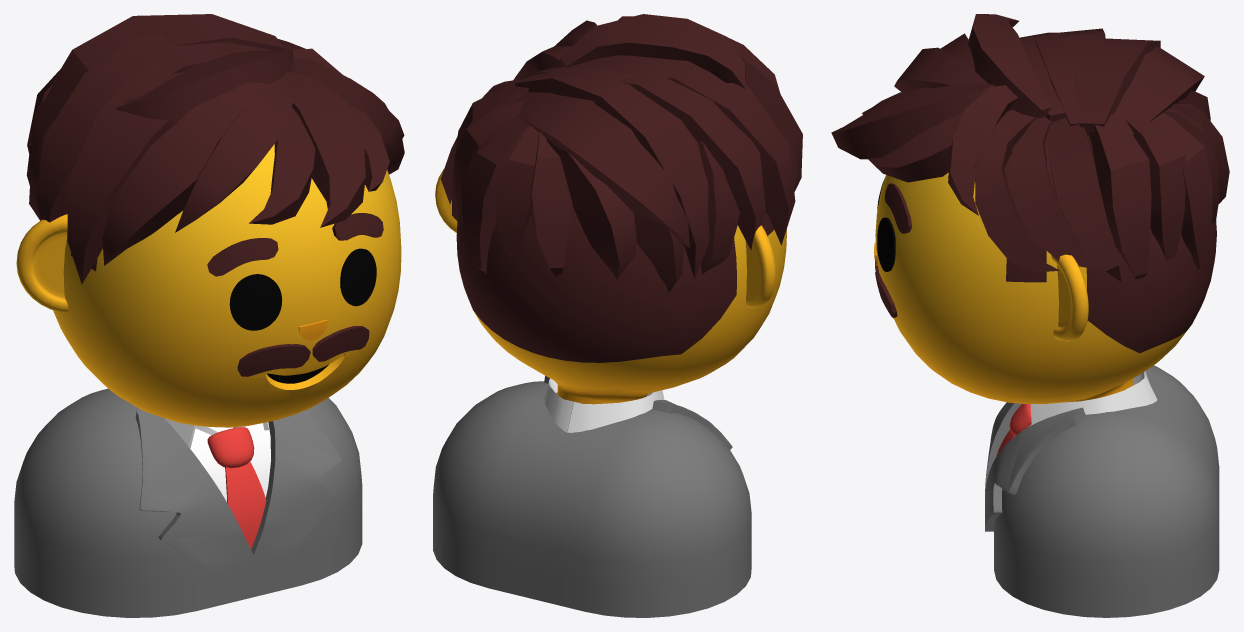
The model's file is man_office_worker.fbx.
The picture shows the model from 3 angles, left to right: view 1: azimuth 30°, elevation 25°; view 2: azimuth 150°, elevation 25°; view 3: azimuth 270°, elevation 25°; orthographic projection. The views are drawn at different scales.
Visible parts, largest first — view 1: Cube.1363, Roundcube.109, Sphere.071, Circle.662, Circle.658, Cylinder.095, Circle.663, Circle.661, Circle.664, Cube.1371, Plane.054; view 2: Cube.1363, Sphere.071, Roundcube.109, Plane.054, Cylinder.095, Circle.662; view 3: Cube.1363, Roundcube.109, Sphere.071, Circle.662, Cylinder.095, Plane.054, Circle.658, Circle.661.
Part boxes in pixels (x1,y1,x2,y2): Cube.1363: (26,14,404,284); Roundcube.109: (53,144,401,427); Sphere.071: (14,388,362,617); Circle.662: (135,408,341,581); Circle.658: (229,248,376,330); Cylinder.095: (16,214,68,312); Circle.663: (237,326,369,376); Circle.661: (207,213,383,276); Circle.664: (225,461,266,549); Cube.1371: (207,427,254,468); Plane.054: (165,418,268,448); Cube.1363: (440,14,802,292); Sphere.071: (433,381,751,617); Roundcube.109: (456,206,786,404); Plane.054: (544,378,664,432); Cylinder.095: (435,169,775,307); Circle.662: (544,375,732,449); Cube.1363: (831,14,1229,282); Roundcube.109: (875,110,1216,403); Sphere.071: (994,365,1219,617); Circle.662: (985,402,1085,531); Cylinder.095: (1051,254,1088,341); Plane.054: (1030,371,1157,424); Circle.658: (877,178,895,271); Circle.661: (884,183,912,233).
Size of the model in its own units: 176 by 248 by 177.
2 materials, 2 textured.
